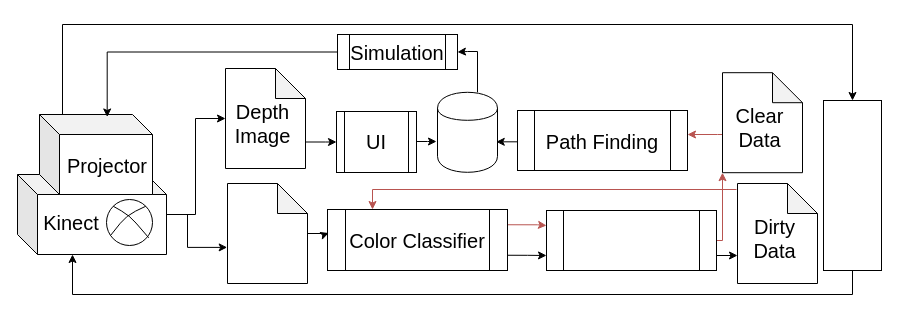
Some shapes in this 899 by 320 pixel diagram are drawn without their labels. The shapes that lost their labels are listed below. From the top down, each one's centre as x and y in pixels, then its label:
At (467,131): "Unity".
At (852,185): "Desk".
At (267,233): "RGB Image".
At (631,240): "Set Classifier".
